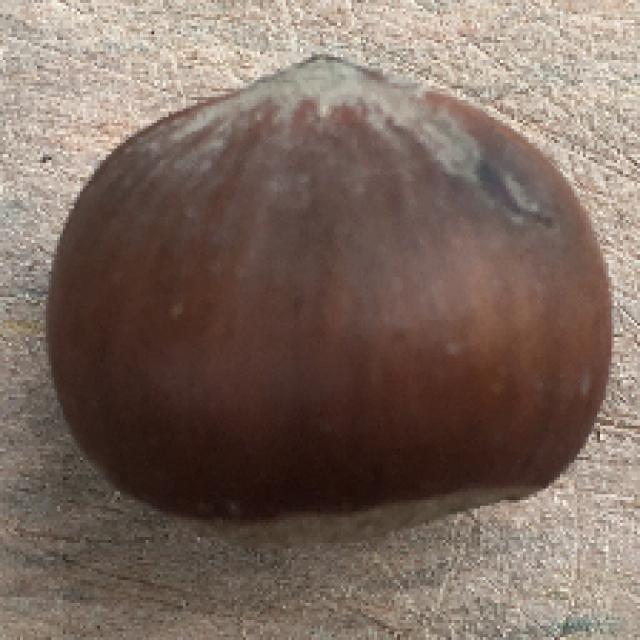damagedHazelnut: (40, 49, 620, 543)
